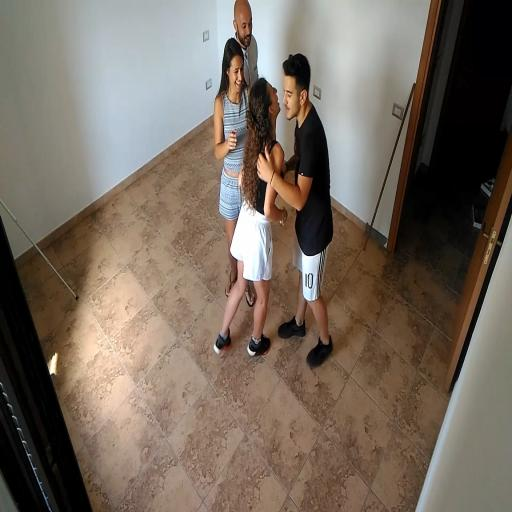nao-violencia: (211, 38, 344, 391)
